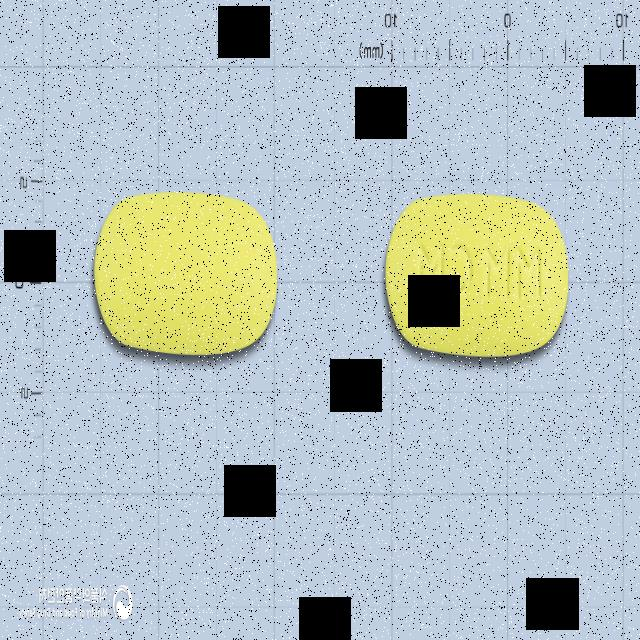Claricin - 250mg: (379, 188, 571, 362), (89, 188, 278, 359)
